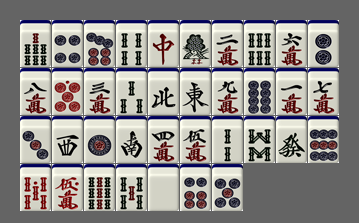0m: (52, 164, 83, 211)
0p: (52, 68, 83, 115)
0s: (20, 164, 51, 211)
1m: (276, 68, 307, 115)
1p: (84, 116, 115, 163)
1s: (180, 20, 211, 67)
1z: (180, 68, 211, 115)
2m: (212, 20, 243, 67)
2p: (308, 20, 339, 67)
2s: (212, 116, 243, 163)
2z: (116, 116, 147, 163)
3m: (84, 68, 115, 115)
3p: (20, 116, 51, 163)
3s: (116, 68, 147, 115)
3z: (52, 116, 83, 163)
4m: (148, 116, 179, 163)
4p: (52, 20, 83, 67)
4s: (116, 20, 147, 67)
4z: (148, 68, 179, 115)
5m: (180, 116, 211, 163)
5p: (212, 164, 243, 211)
5s: (116, 164, 147, 211)
5z: (148, 164, 179, 211)
6m: (276, 20, 307, 67)
6p: (180, 164, 211, 211)
6s: (244, 20, 275, 67)
6z: (276, 116, 307, 163)
7m: (308, 68, 339, 115)
7p: (84, 20, 115, 67)
7s: (20, 20, 51, 67)
7z: (148, 20, 179, 67)
8m: (20, 68, 51, 115)
8p: (244, 68, 275, 115)
8s: (244, 116, 275, 163)
9m: (212, 68, 243, 115)
9p: (308, 116, 339, 163)
9s: (84, 164, 115, 211)
